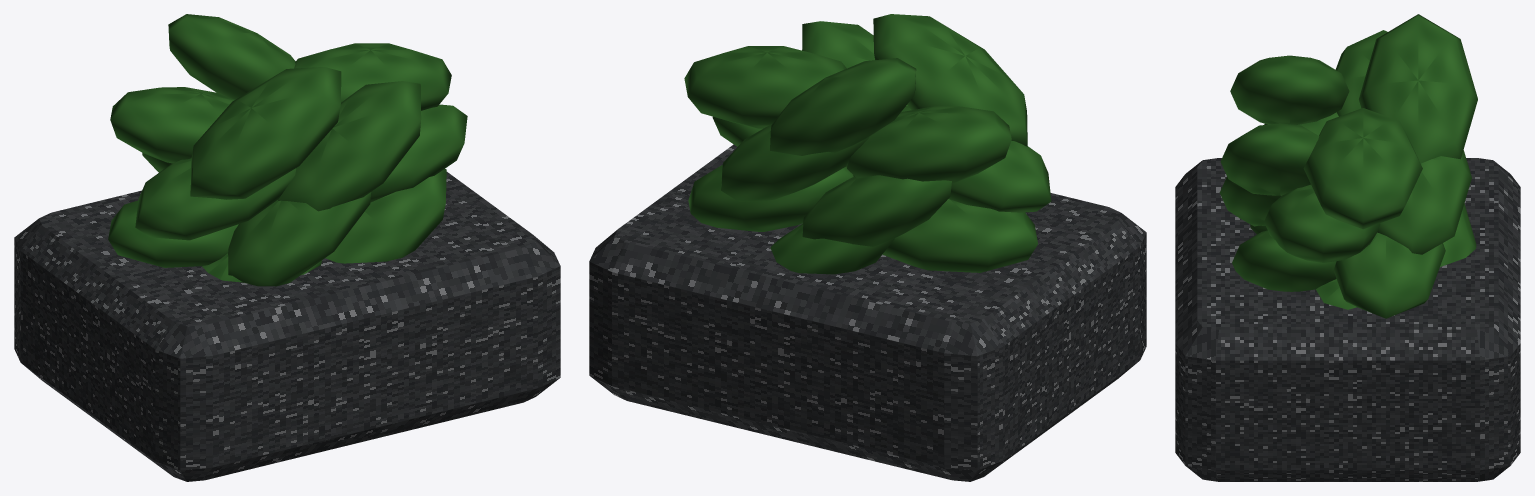
Rendered from outdoor_planter_low.glb.
3 views of the same model, side by side, from view 1: azimuth 30°, elevation 25°; view 2: azimuth 150°, elevation 25°; view 3: azimuth 270°, elevation 25° (orthographic). The views are drawn at different scales.
Visible parts, largest first — view 1: outdoor_planter_low_blackGranite, outdoor_planter_low_foliageDark; view 2: outdoor_planter_low_blackGranite, outdoor_planter_low_foliageDark; view 3: outdoor_planter_low_blackGranite, outdoor_planter_low_foliageDark.
Boxes of the visible parts, left/top/right/bottom form: outdoor_planter_low_blackGranite: left=14, top=172, right=560, bottom=481; outdoor_planter_low_foliageDark: left=108, top=14, right=467, bottom=286; outdoor_planter_low_blackGranite: left=589, top=144, right=1146, bottom=481; outdoor_planter_low_foliageDark: left=684, top=14, right=1051, bottom=274; outdoor_planter_low_blackGranite: left=1175, top=158, right=1520, bottom=481; outdoor_planter_low_foliageDark: left=1219, top=14, right=1477, bottom=318.
Size of what is drawn, in the model's own units: 0.68 by 0.58 by 0.52.
2 materials, 2 textured.
